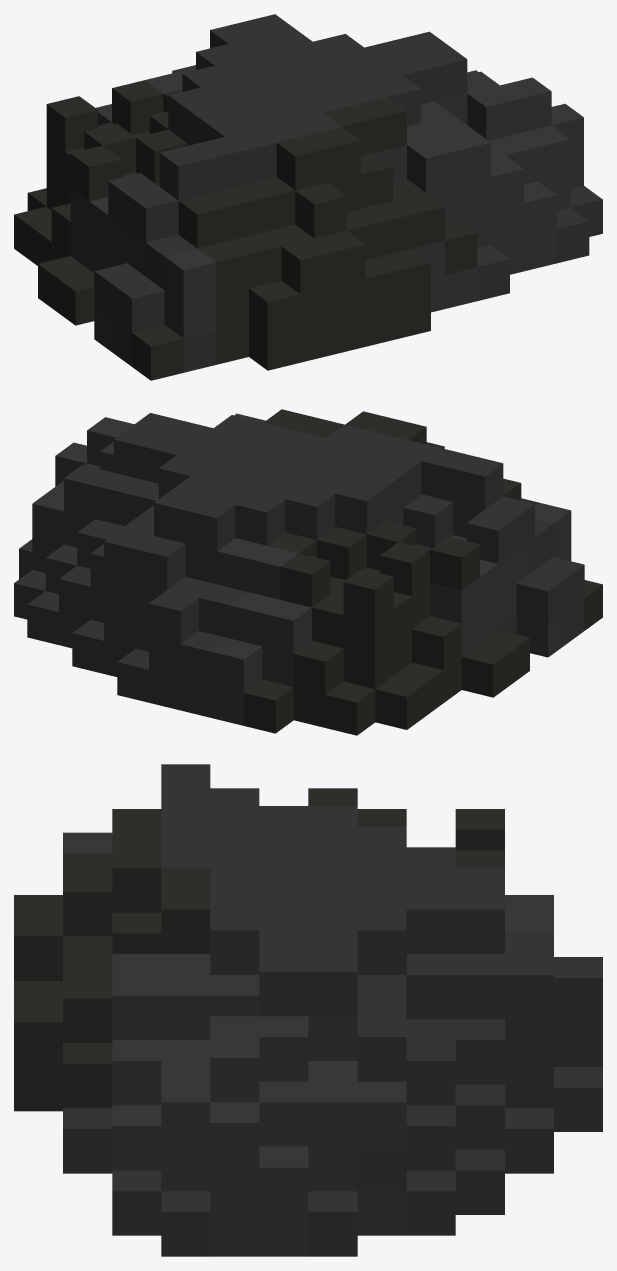
The model's file is MediumStone.obj.
3 renders of one model, top to bottom at view 1: azimuth 30°, elevation 25°; view 2: azimuth 150°, elevation 25°; view 3: azimuth 270°, elevation 25°, orthographic. The views are drawn at different scales.
Bounding box in the file's own units: 1.5 × 0.5 × 1.2.
1 material, 1 textured.
